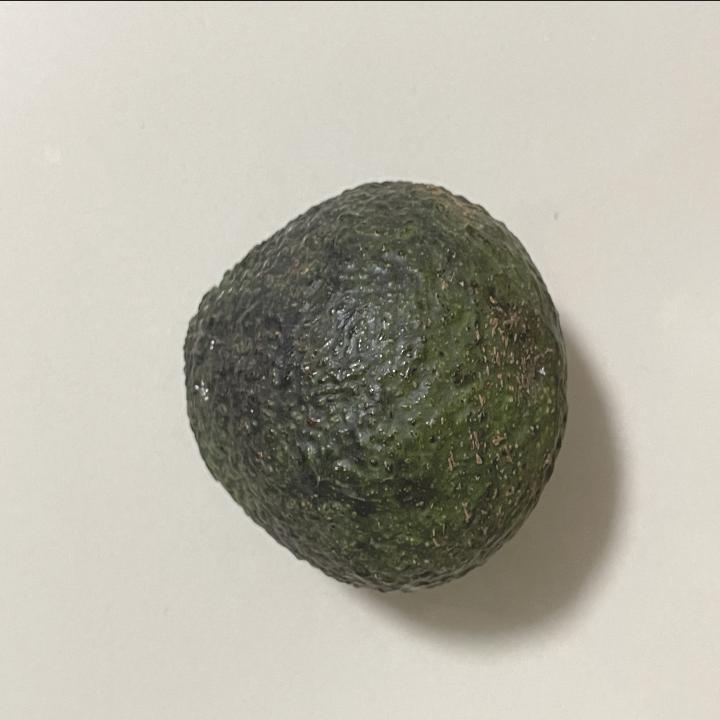Level1: (176, 158, 580, 606)
